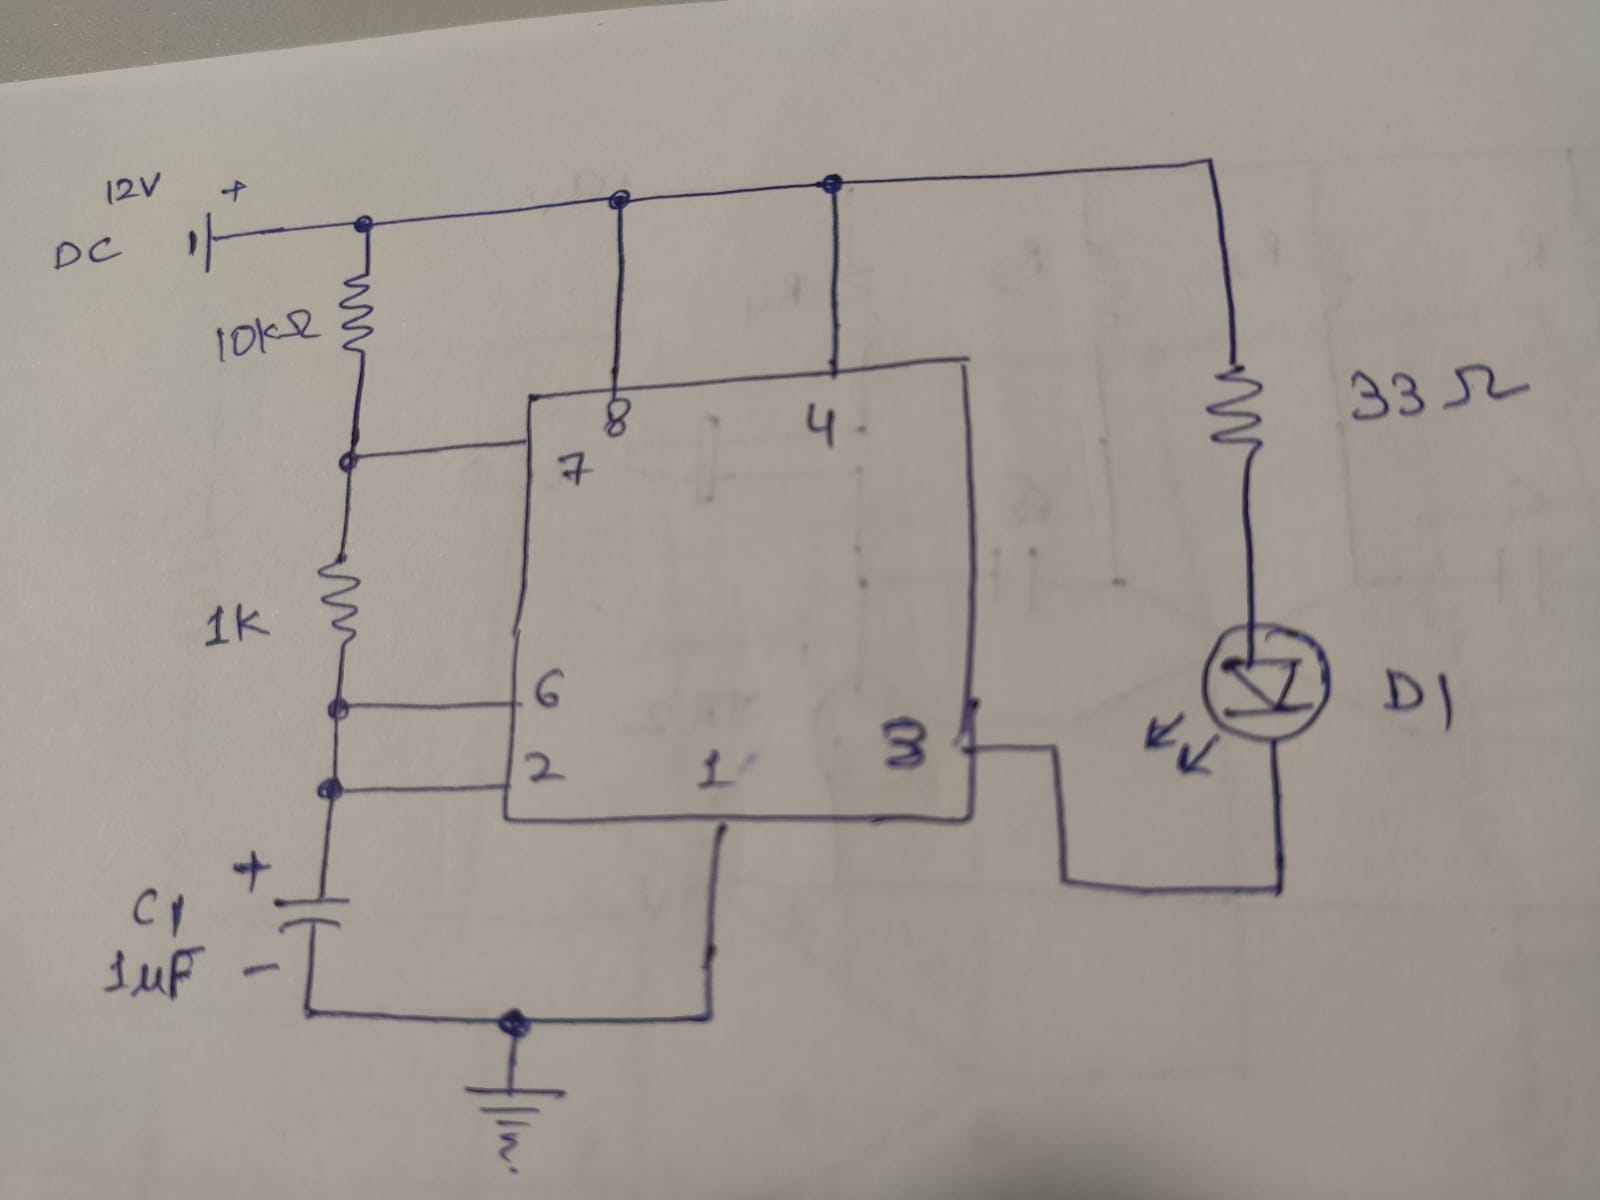capacitor.polarized: (234, 850, 354, 979)
diode.light_emitting: (1144, 616, 1333, 776)
gnd: (472, 1082, 571, 1171)
integrated_circuit: (488, 348, 1009, 850)
junction: (495, 1006, 540, 1044), (316, 766, 349, 811), (289, 989, 324, 1029), (1036, 732, 1070, 773), (1193, 146, 1230, 182), (1264, 870, 1295, 910), (602, 182, 636, 214), (690, 1000, 723, 1034), (1048, 858, 1081, 891), (334, 446, 364, 478), (819, 170, 848, 203), (324, 692, 353, 725), (346, 209, 377, 238)
resistor: (1203, 357, 1264, 451), (312, 552, 368, 649), (336, 267, 378, 366)
text: (101, 884, 210, 1005), (1346, 361, 1536, 424), (210, 305, 325, 366), (1383, 659, 1455, 734), (203, 603, 272, 648), (879, 713, 929, 766), (53, 237, 120, 267), (530, 666, 566, 716), (103, 168, 157, 200), (806, 397, 844, 442), (605, 395, 636, 442), (700, 747, 729, 792), (528, 751, 558, 792), (559, 447, 586, 490)
voltage.dc: (183, 174, 252, 277)
